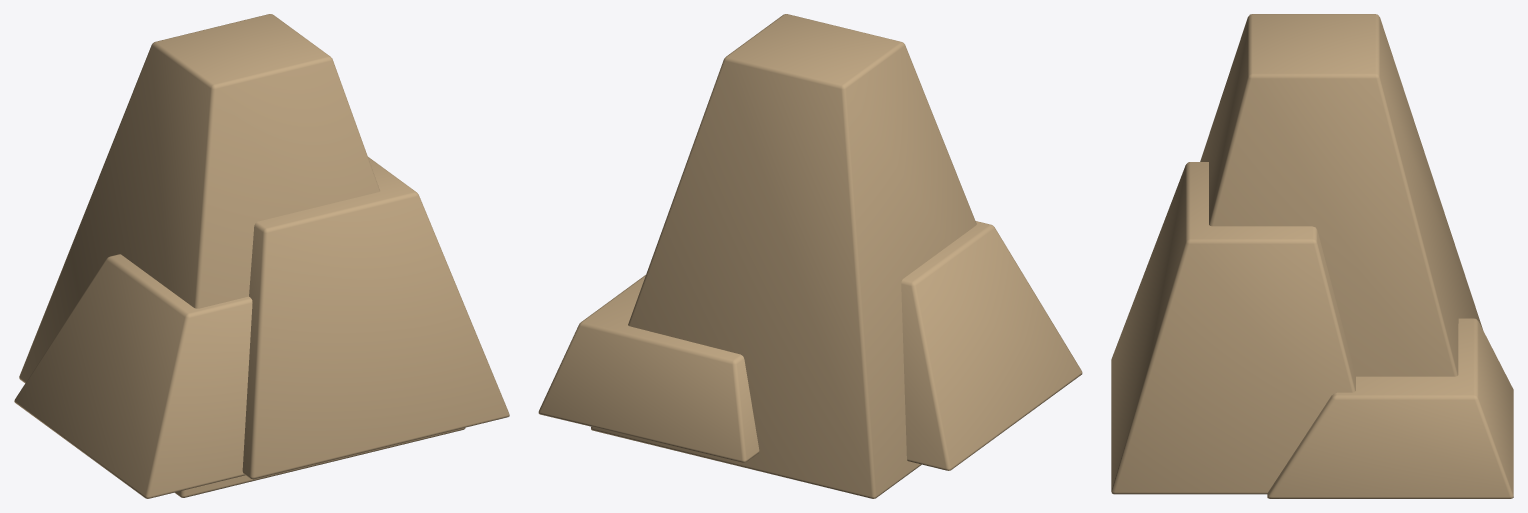
Rendered from MediumRocks.fbx.
The picture shows the model from 3 angles, left to right: view 1: azimuth 30°, elevation 25°; view 2: azimuth 150°, elevation 25°; view 3: azimuth 270°, elevation 25°; orthographic projection. The views are drawn at different scales.
Parts seen in each view (by area): view 1: MediumRocks; view 2: MediumRocks; view 3: MediumRocks.
Boxes of the visible parts, <box> form: MediumRocks: <box>14,14,509,498</box>; MediumRocks: <box>538,14,1082,498</box>; MediumRocks: <box>1111,14,1513,498</box>.
Bounding box in the file's own units: 4.05 × 3.77 × 3.64.
